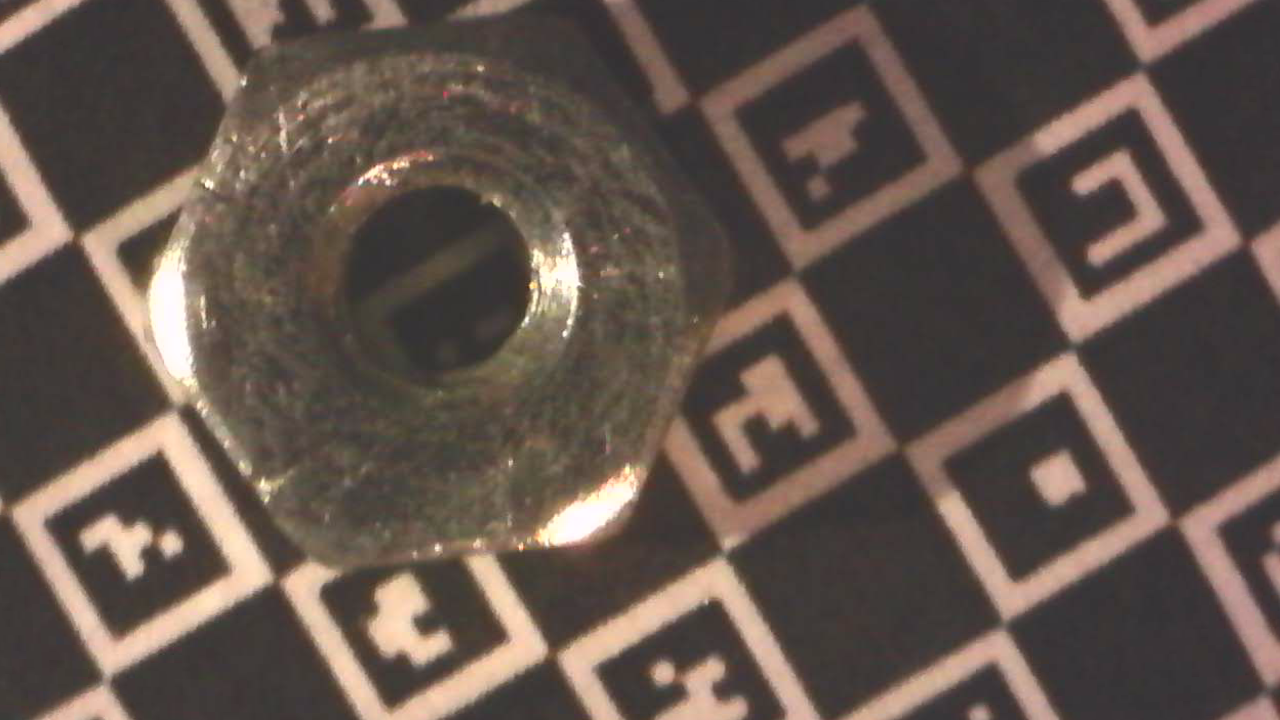Bolt: (145, 18, 742, 565)
